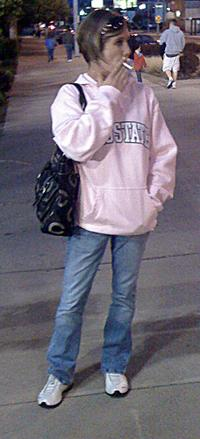person: (39, 3, 178, 408)
